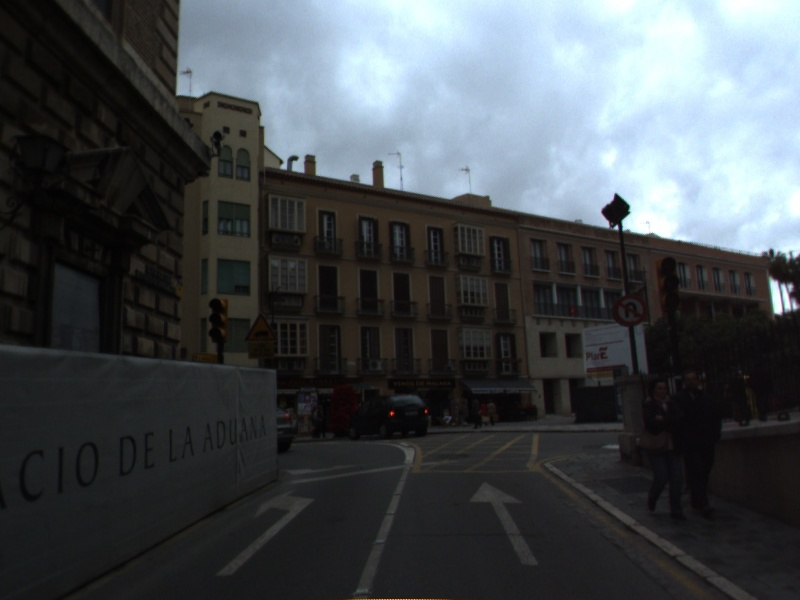LEFT: (213, 488, 318, 578)
STRAIGHT: (468, 479, 539, 567)
